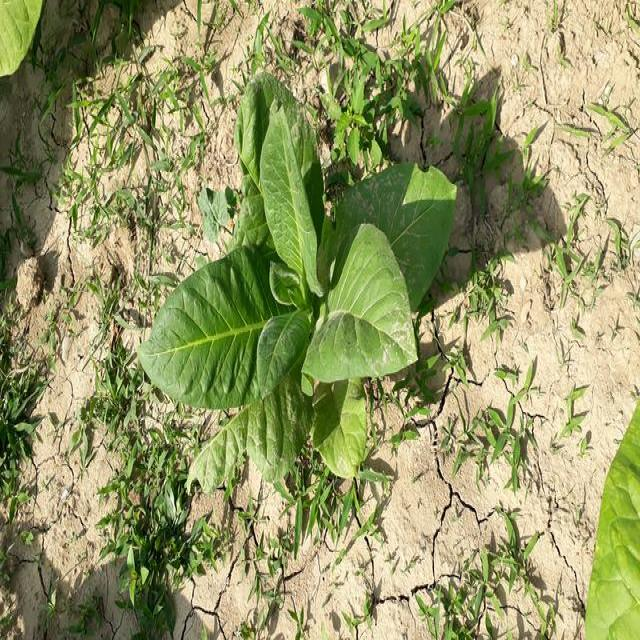crop: (136, 70, 460, 482)
